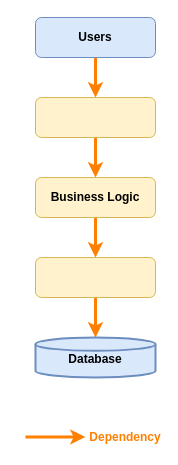
This 178x465 diagram has some shape labels left out. The centre of each missing label's shape, as x and y in pixels:
Data Access: pixel 95 277
User Interface: pixel 95 117
